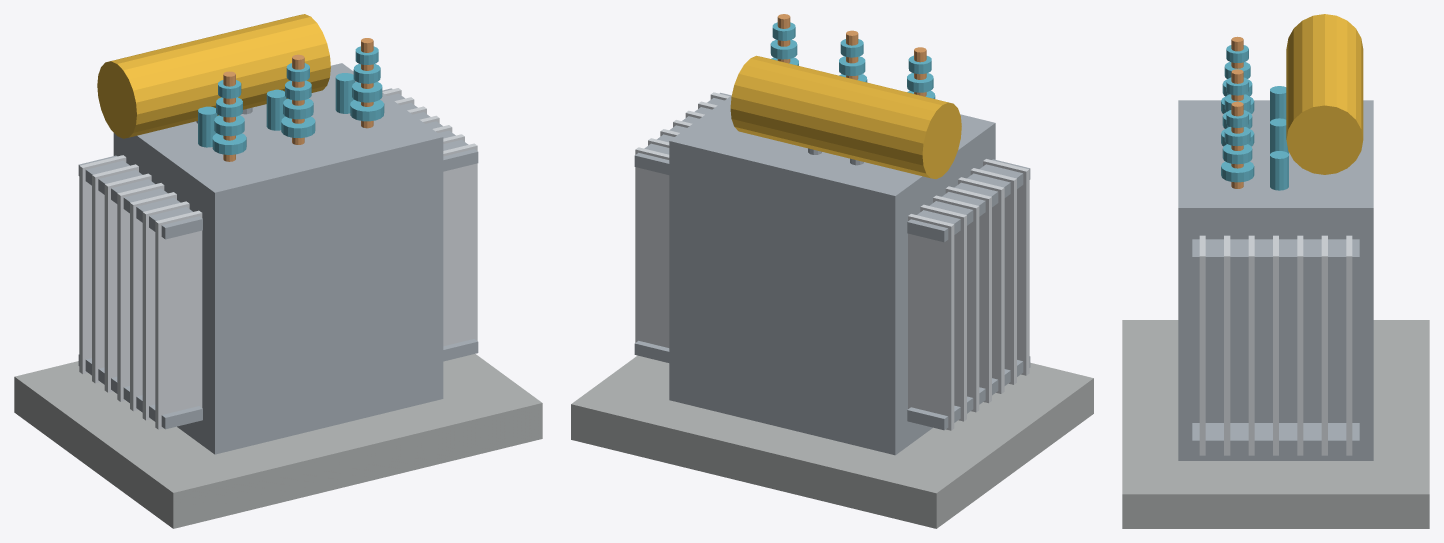
Rendered from ENERGY-013.glb.
3 renders of one model, left to right at view 1: azimuth 30°, elevation 25°; view 2: azimuth 150°, elevation 25°; view 3: azimuth 270°, elevation 25°, orthographic. The views are drawn at different scales.
Parts seen in each view (by area): view 1: ENERGY-013; view 2: ENERGY-013; view 3: ENERGY-013.
Boxes of the visible parts, <box> form: ENERGY-013: <box>14,14,542,528</box>; ENERGY-013: <box>571,14,1093,528</box>; ENERGY-013: <box>1122,14,1429,528</box>.
Size of the model in its own units: 2.36 by 2.34 by 1.76.
